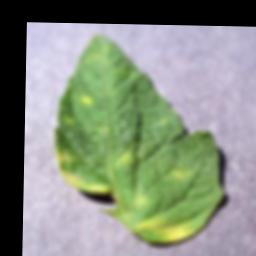Leaf_Mold: (54, 143, 117, 194), (134, 215, 205, 246)
